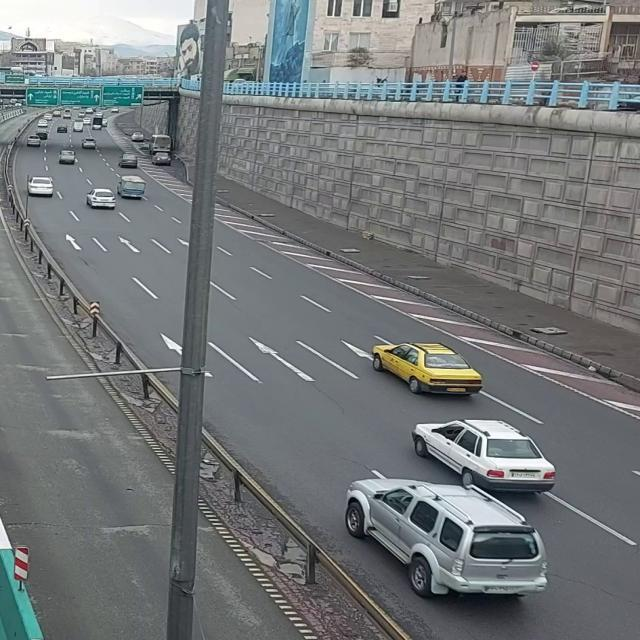Car: (337, 479, 556, 601), (415, 416, 559, 485), (368, 333, 488, 398)
